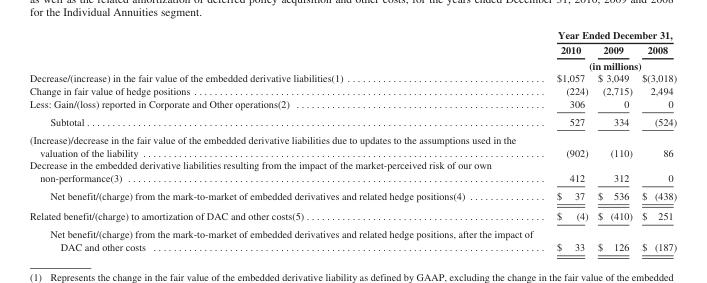table: (28, 28, 676, 252)
table column: (28, 28, 544, 252), (544, 28, 592, 252), (592, 28, 636, 252), (636, 28, 676, 252)
table column header: (28, 28, 676, 71)
table row: (28, 130, 676, 158), (28, 158, 676, 186), (28, 224, 676, 252), (28, 186, 676, 205), (28, 205, 676, 224), (28, 112, 676, 130), (28, 42, 676, 57), (28, 97, 676, 112), (28, 28, 676, 42), (28, 57, 676, 71), (28, 71, 676, 84), (28, 84, 676, 97)
table spanning cell: (544, 28, 676, 42), (544, 57, 676, 71)
